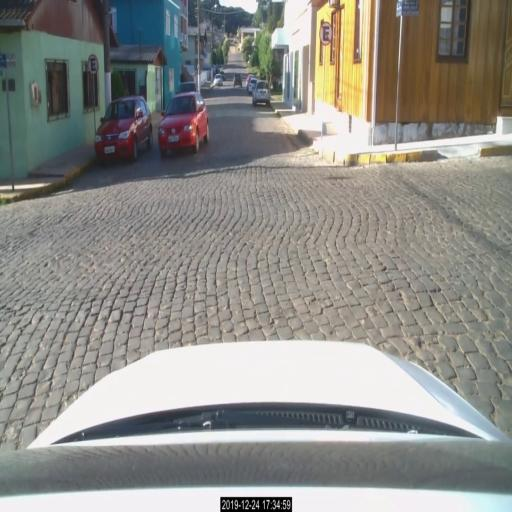Pothole: (409, 330, 444, 372)
